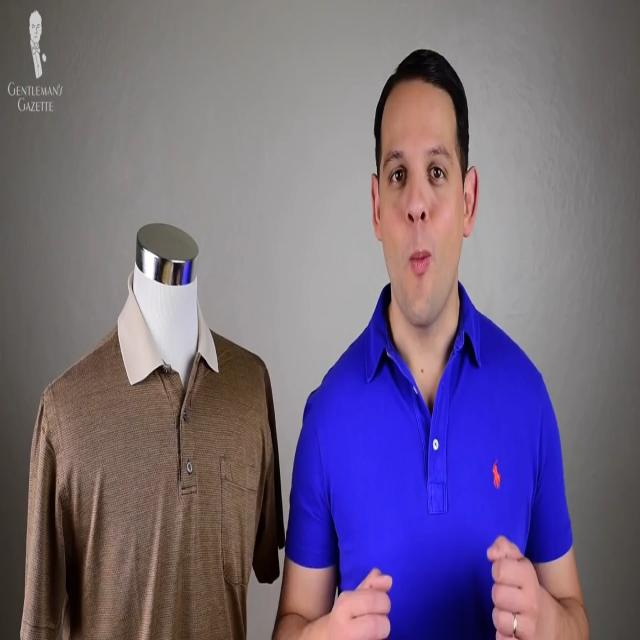Shirt: (285, 278, 573, 640), (18, 267, 285, 640)
